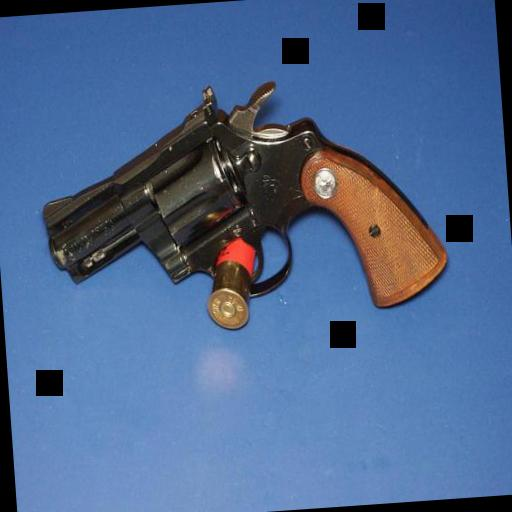Handgun: (32, 60, 455, 376)
